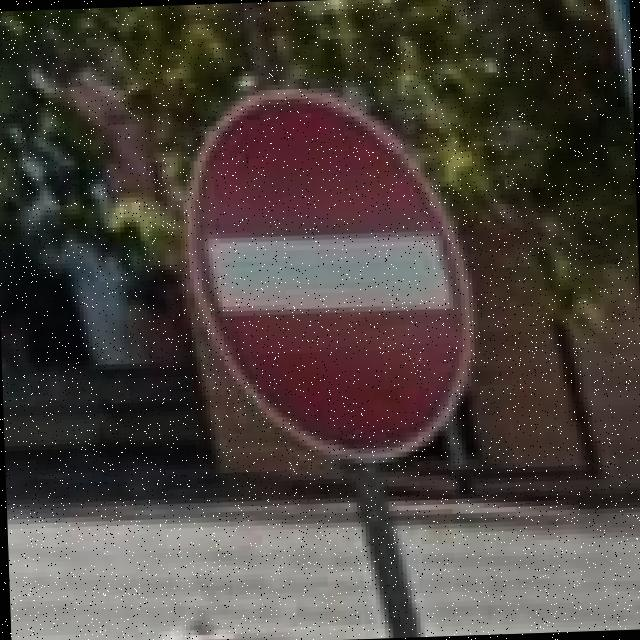Zakaz wjazdu: (183, 82, 482, 468)
